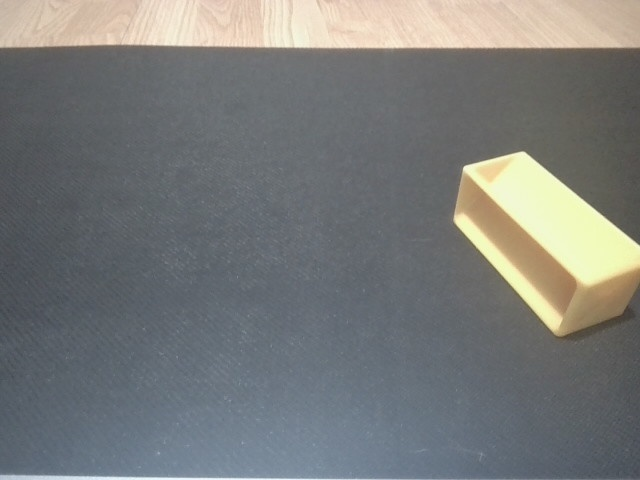YellowSample: (450, 147, 640, 339)
